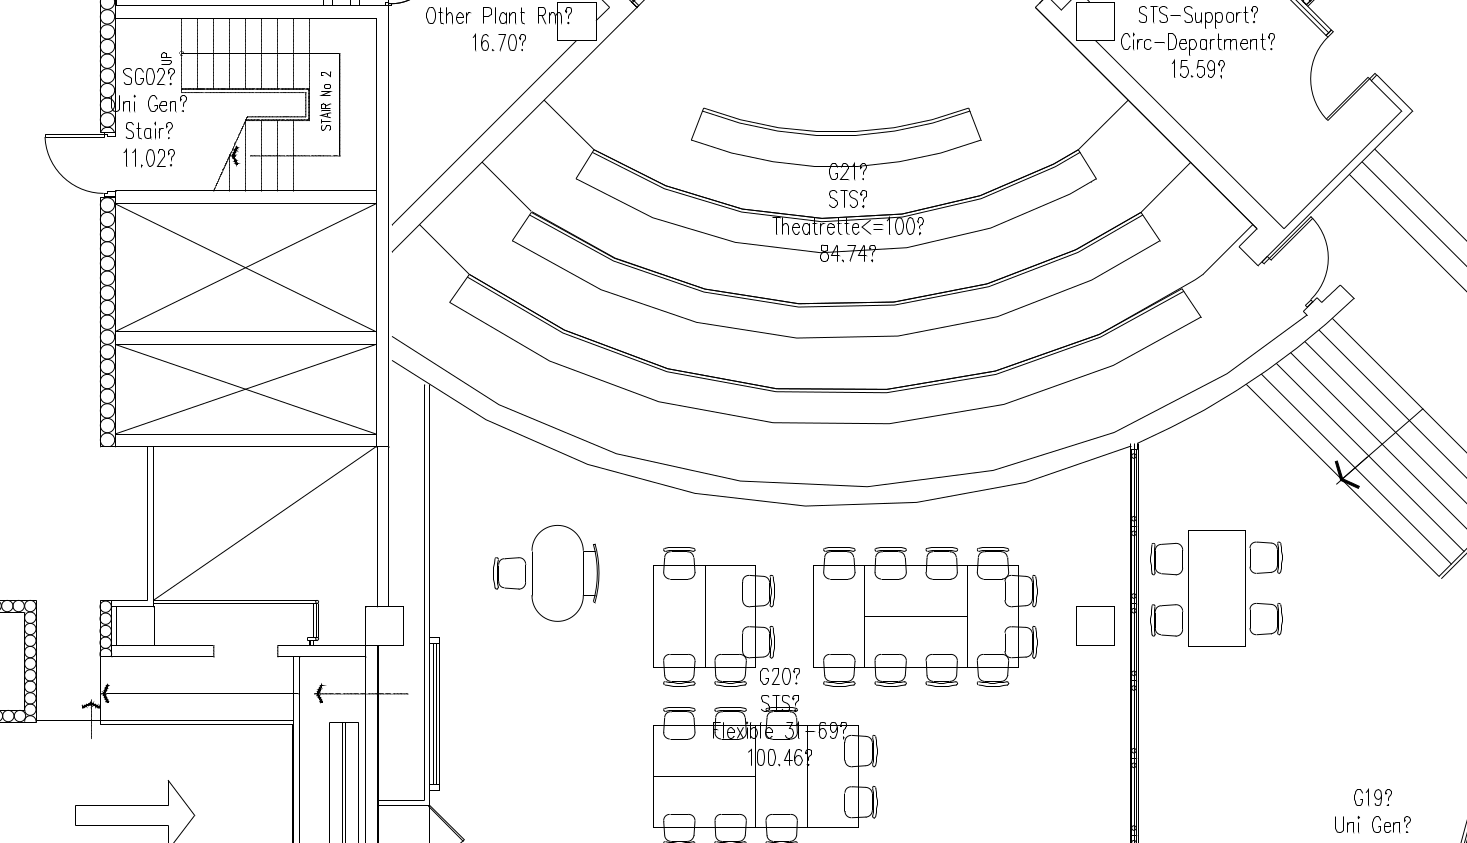door: (1295, 36, 1370, 124), (1261, 210, 1336, 298), (40, 126, 101, 195)
